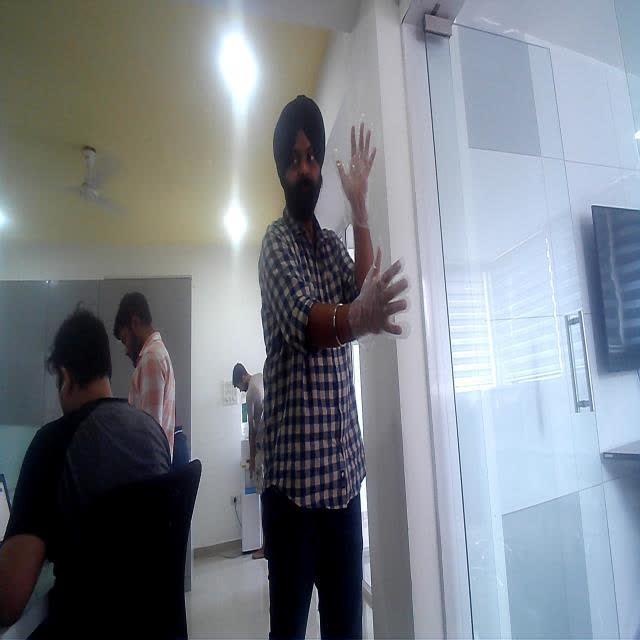with_gloves: (346, 234, 411, 350), (332, 116, 380, 230)
